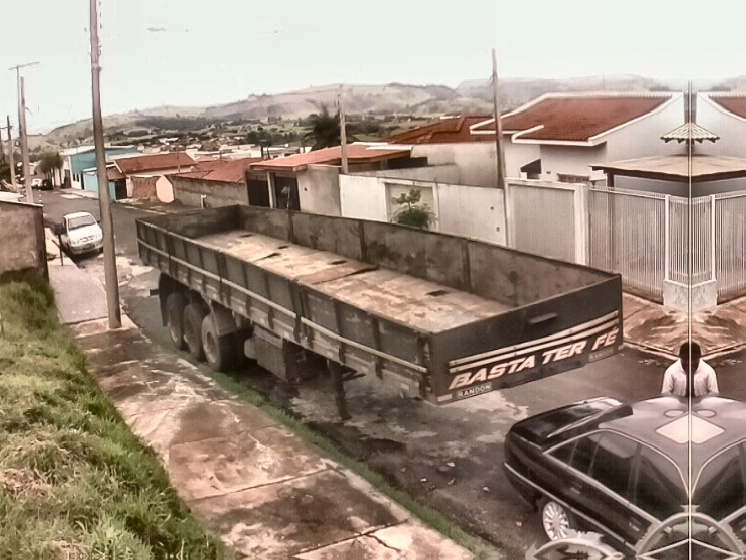person: (659, 339, 689, 400), (690, 340, 719, 399)
